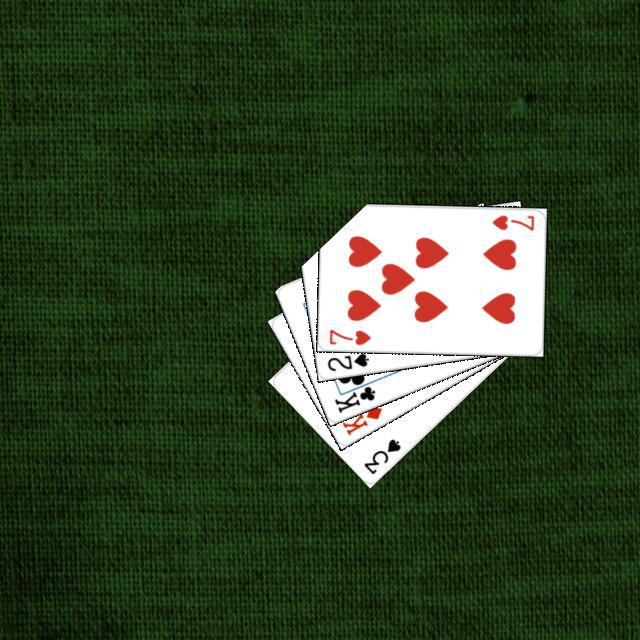2s: (322, 348, 370, 373)
3s: (359, 434, 403, 476)
7h: (324, 324, 372, 347), (487, 210, 536, 232)
Kc: (329, 375, 378, 415)
Kd: (337, 401, 384, 437)
